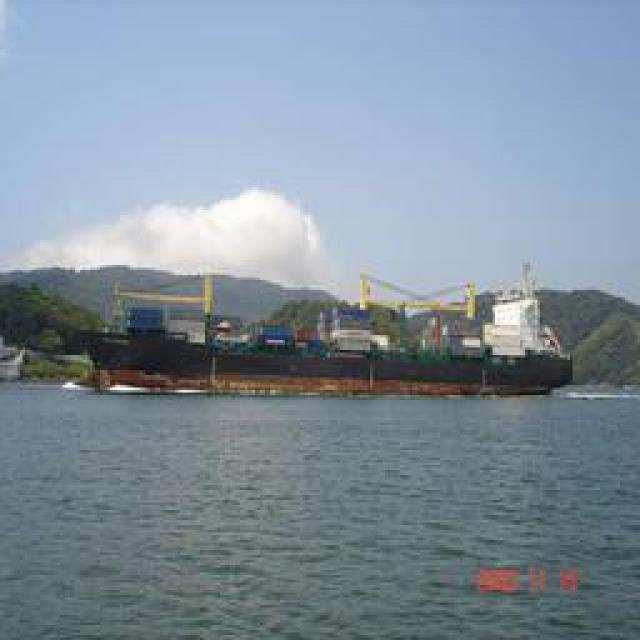Ship: (78, 303, 586, 398)
